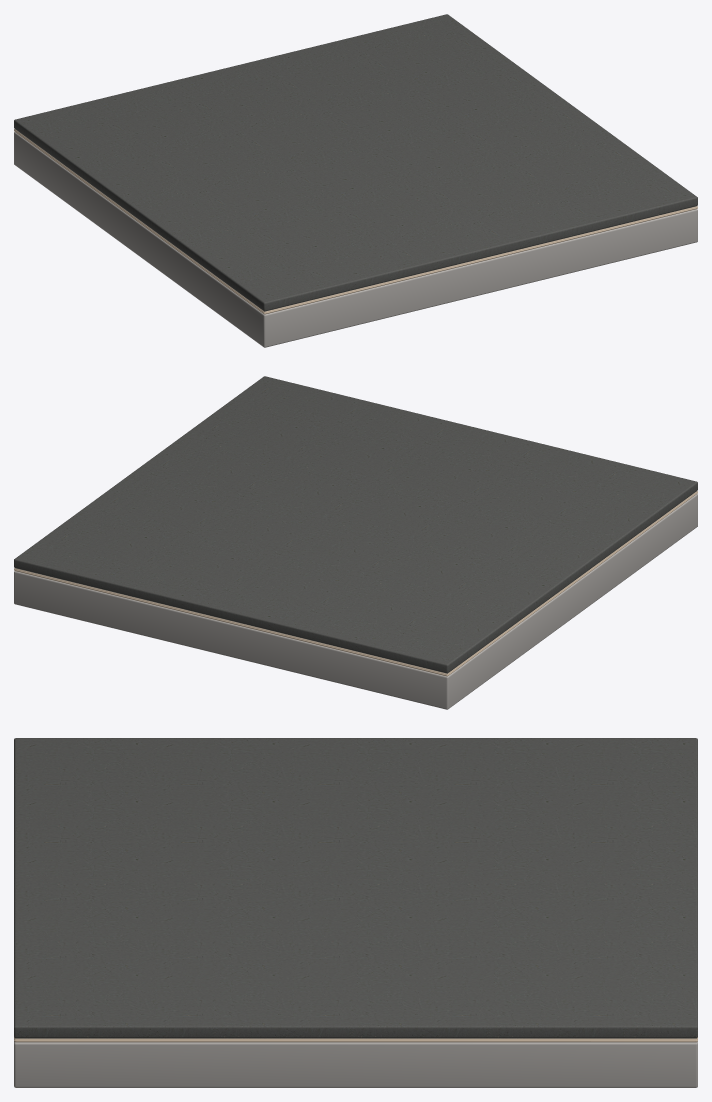
Rendered from plate.glb.
The picture shows the model from 3 angles, top to bottom: view 1: azimuth 30°, elevation 25°; view 2: azimuth 150°, elevation 25°; view 3: azimuth 270°, elevation 25°; orthographic projection. The views are drawn at different scales.
Visible parts, largest first — view 1: FloorPlate; view 2: FloorPlate; view 3: FloorPlate.
Part boxes in pixels (box(x1,y1,x2,y2)): FloorPlate: box(14, 14, 697, 347); FloorPlate: box(14, 376, 697, 709); FloorPlate: box(14, 738, 697, 1087).
Size of the model in its own units: 0.3 by 0.03 by 0.3.
3 materials, 1 textured.
